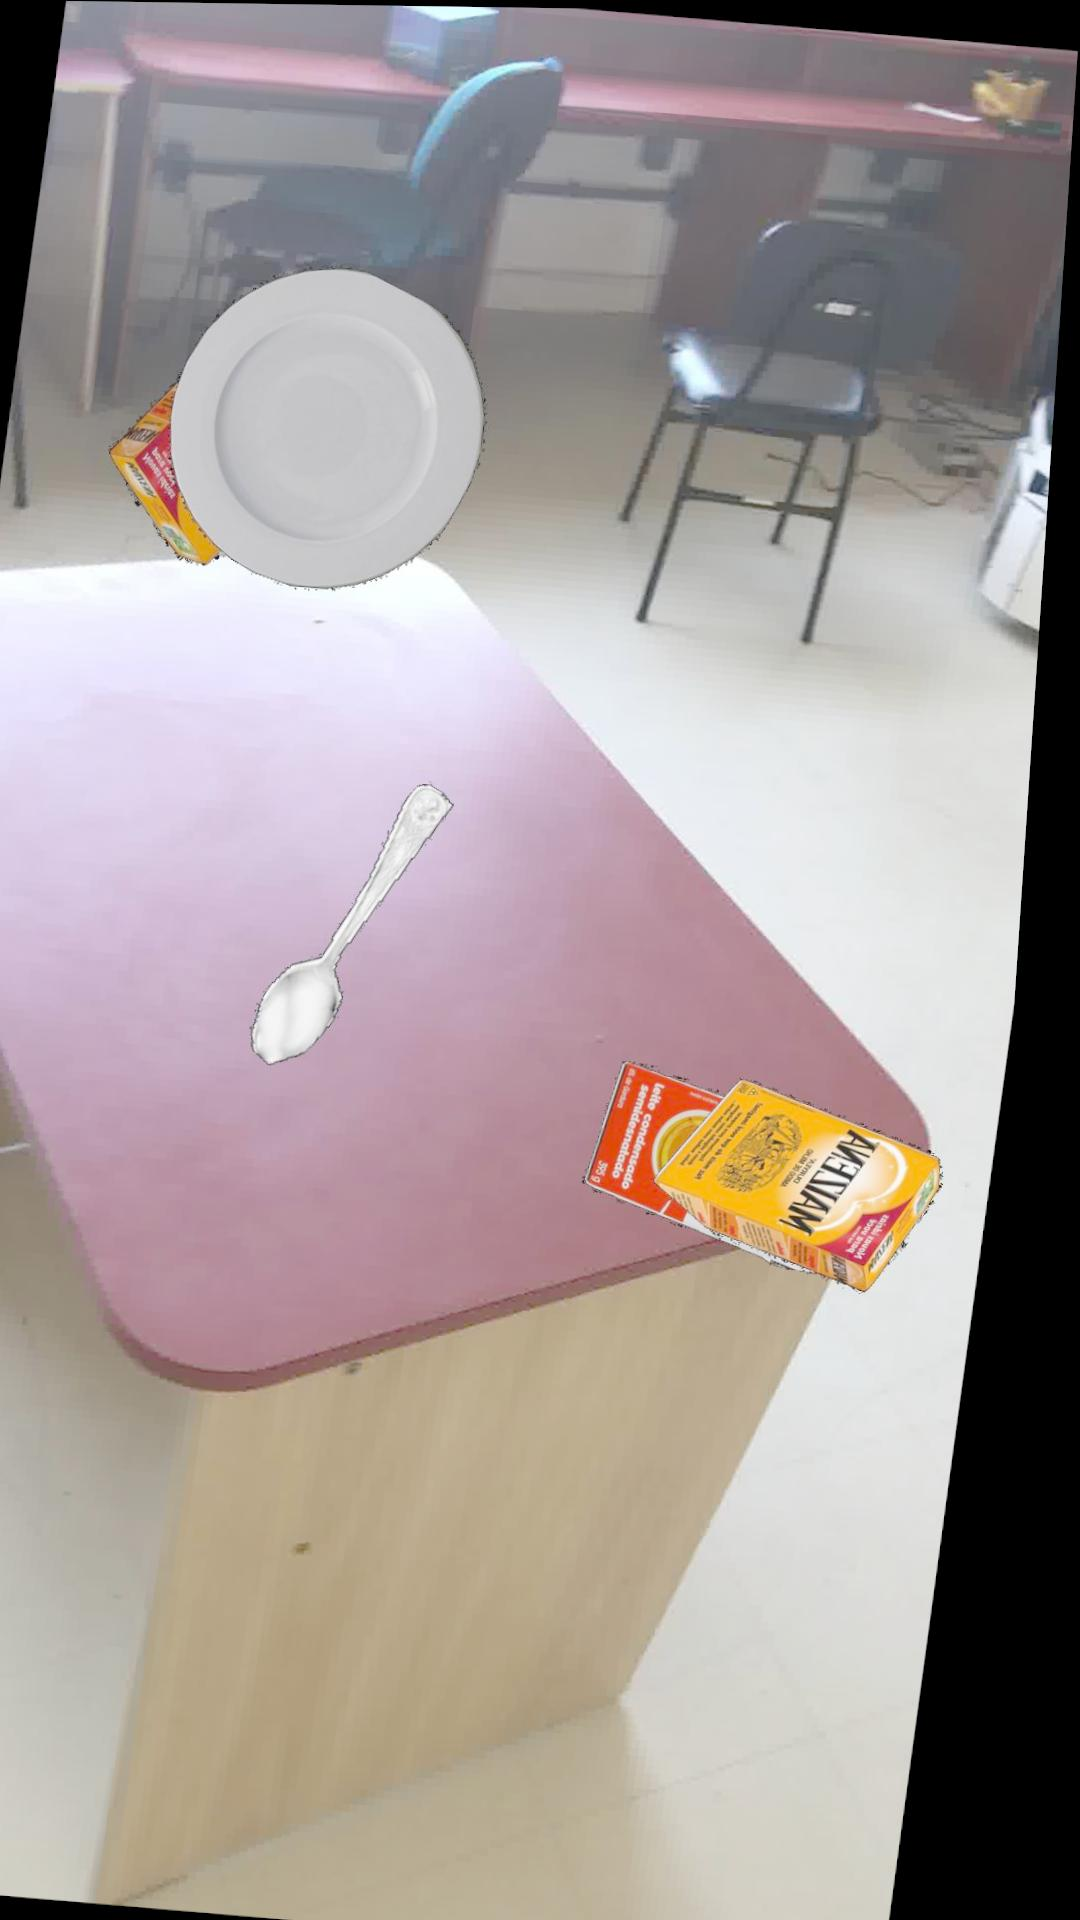plate: (171, 265, 491, 588)
spoon: (264, 781, 463, 1063)
